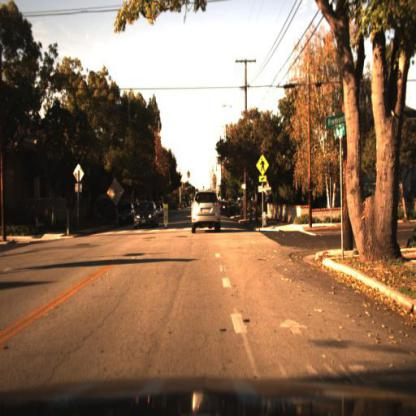car: (190, 189, 224, 237), (132, 200, 159, 234), (135, 200, 160, 235), (116, 201, 135, 226), (119, 203, 136, 228), (219, 195, 233, 222)
